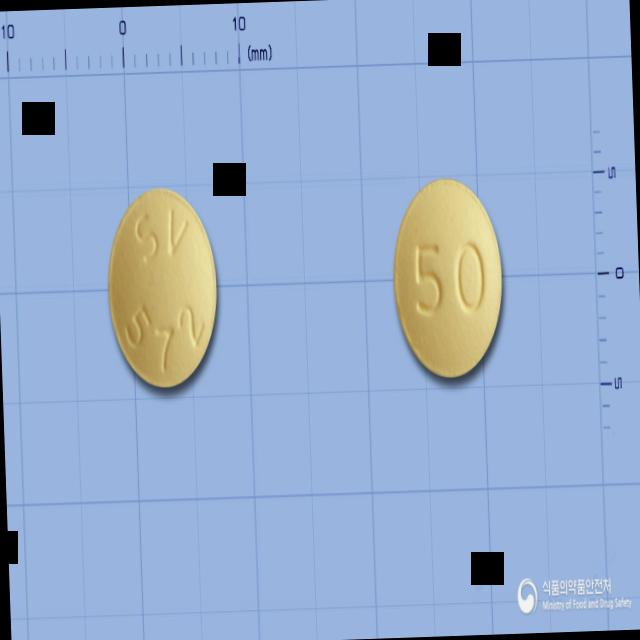Tivicay Tab: (103, 181, 221, 391), (389, 174, 506, 384)
